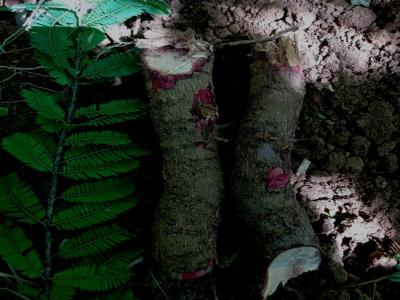Root: (233, 38, 322, 298), (141, 30, 224, 279)
